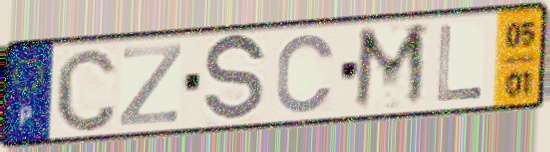C: (53, 44, 120, 135), (273, 31, 338, 116)
L: (434, 23, 484, 104)
M: (350, 20, 430, 114)
S: (200, 30, 269, 127)
Z: (116, 41, 186, 129)
